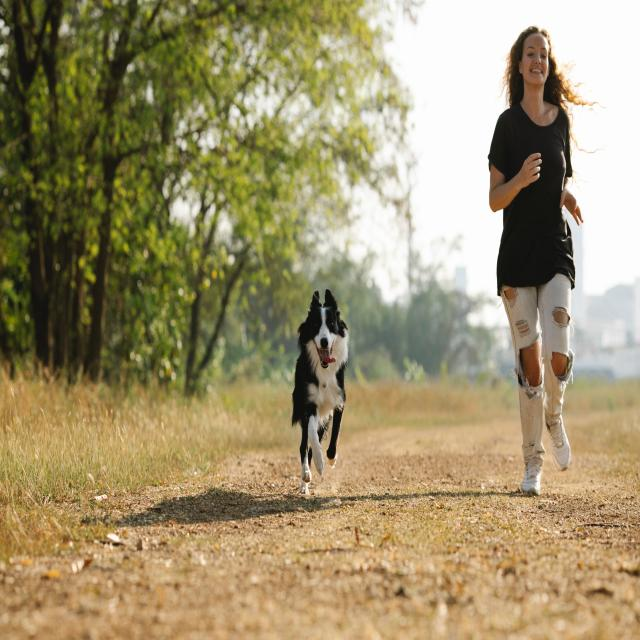running: (488, 24, 586, 501)
